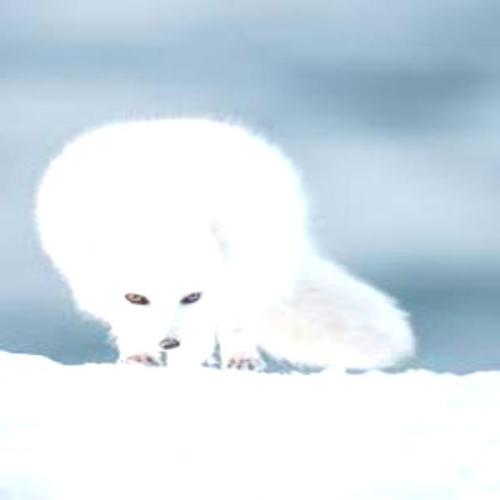arctic_fox-endangered: (38, 118, 414, 373)
